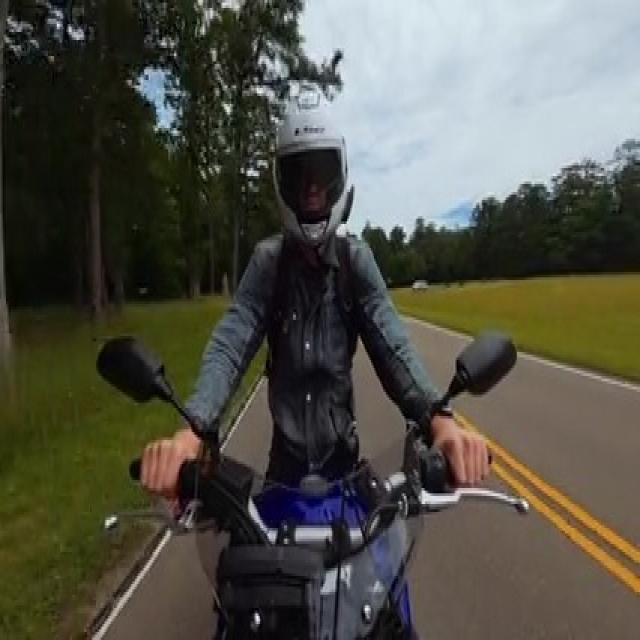Helmet_Wearer: (258, 83, 364, 245)
Person: (145, 72, 489, 494)
